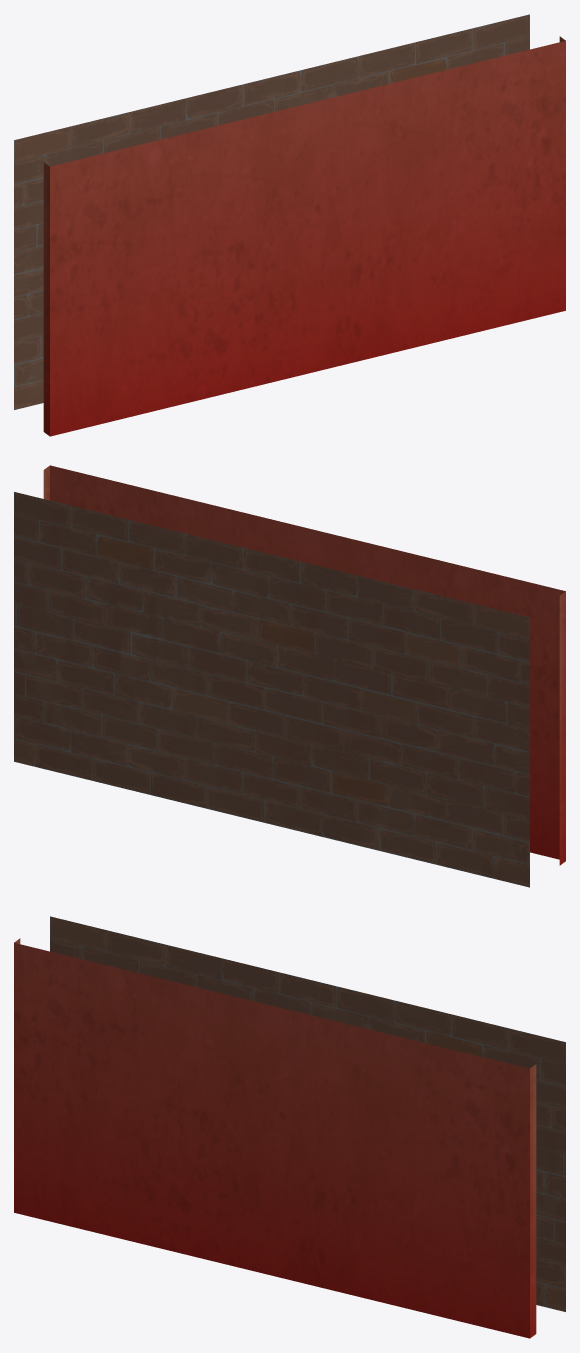
Rendered from Metal_FirstFloor_Wall_1.gltf.
3 renders of one model, top to bottom at view 1: azimuth 30°, elevation 25°; view 2: azimuth 150°, elevation 25°; view 3: azimuth 330°, elevation 25°, orthographic.
Parts seen in each view (by area): view 1: Metal_FirstFloor_Wall_1; view 2: Metal_FirstFloor_Wall_1; view 3: Metal_FirstFloor_Wall_1.
Boxes of the visible parts, x1=… form: Metal_FirstFloor_Wall_1: x1=14, y1=14, x2=565, y2=436; Metal_FirstFloor_Wall_1: x1=14, y1=465, x2=565, y2=887; Metal_FirstFloor_Wall_1: x1=14, y1=916, x2=565, y2=1338.
Bounding box in the file's own units: 2 × 1 × 0.242.
Materials: 2 (2 with a texture image).
